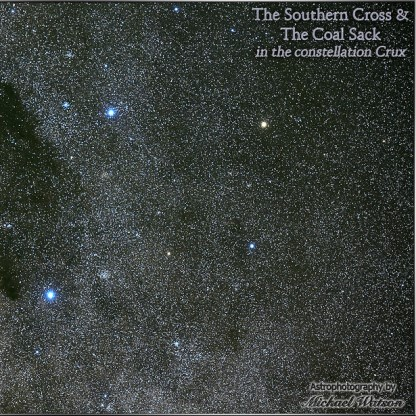Southern Cross: (33, 281, 65, 309), (97, 99, 127, 127), (251, 108, 279, 138), (242, 237, 263, 260)
